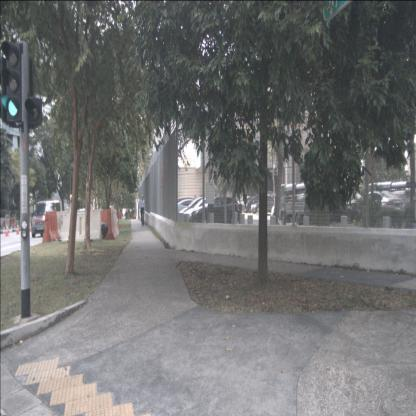human-pedestrian-adult: (140, 194, 145, 226)
movable_object-barrier: (79, 202, 102, 242), (58, 204, 80, 244), (42, 207, 60, 243), (103, 206, 118, 239), (55, 204, 64, 240), (111, 205, 120, 237)
vehicle-car: (357, 191, 405, 226), (190, 196, 242, 228), (31, 200, 62, 238), (175, 199, 204, 218), (246, 194, 272, 214), (250, 196, 278, 214)
vehicle-truck: (361, 181, 416, 224), (278, 183, 323, 226)
